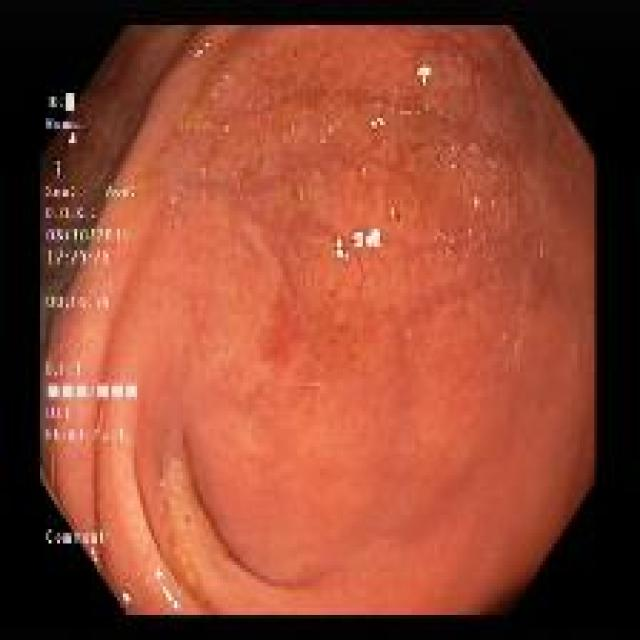ulcerative-colitis: (46, 28, 594, 613)
